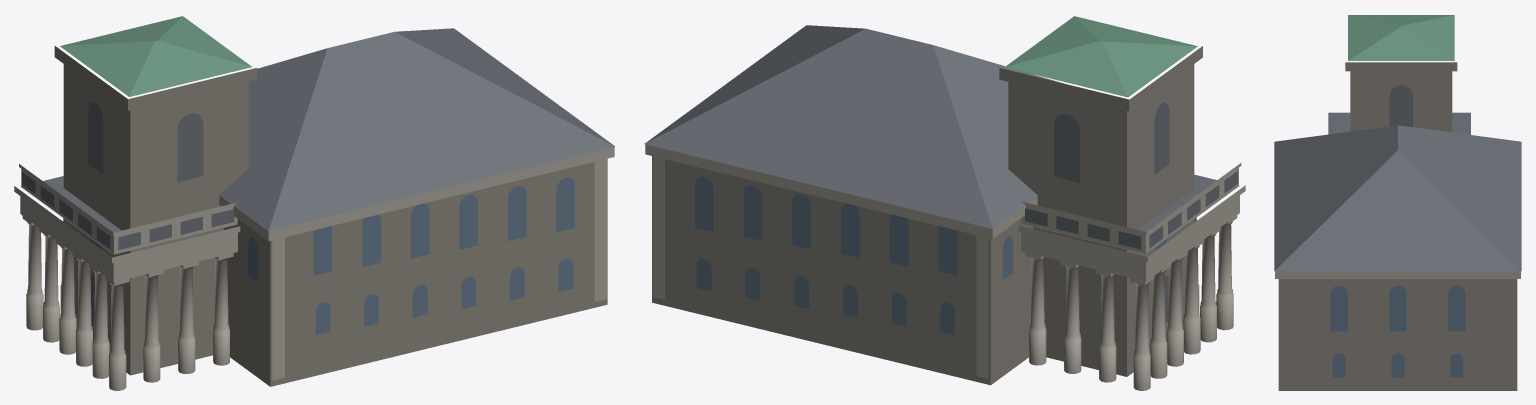
Rendered from bos-kings-chapel.glb.
3 views of the same model, side by side, from view 1: azimuth 30°, elevation 25°; view 2: azimuth 150°, elevation 25°; view 3: azimuth 270°, elevation 25° (orthographic). The views are drawn at different scales.
Visible parts, largest first — view 1: King's Chapel; view 2: King's Chapel; view 3: King's Chapel.
Boxes of the visible parts, x1,y1,x2,y2 form: King's Chapel: (14, 16, 614, 390); King's Chapel: (644, 16, 1245, 390); King's Chapel: (1274, 15, 1521, 390).
Size of the model in its own units: 37.8 by 22.7 by 22.5.
